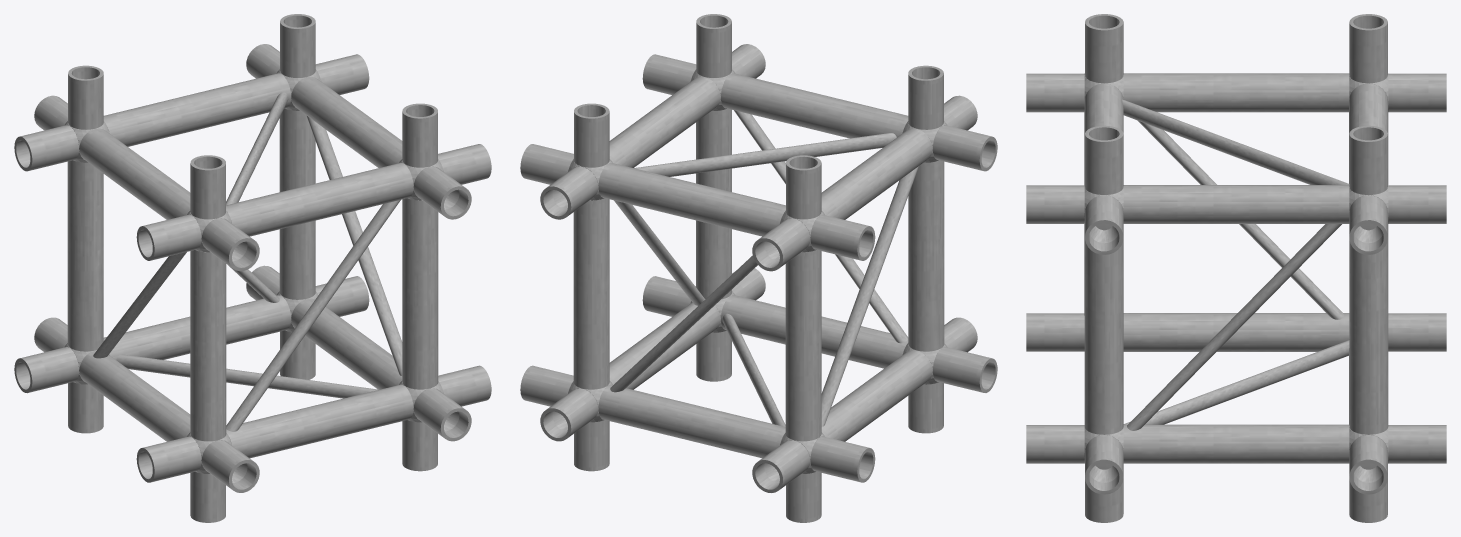
Rendered from Milos_M390L_Multicube_corner-7fd4ad06.glb.
3 views of the same model, side by side, from view 1: azimuth 30°, elevation 25°; view 2: azimuth 150°, elevation 25°; view 3: azimuth 270°, elevation 25° (orthographic). The views are drawn at different scales.
Parts seen in each view (by area): view 1: Geom3D (×41); view 2: Geom3D (×42); view 3: Geom3D (×30).
Part boxes in pixels (x1=…): Geom3D (×41): x1=14, y1=14, x2=491, y2=522; Geom3D (×42): x1=520, y1=14, x2=997, y2=522; Geom3D (×30): x1=1026, y1=14, x2=1446, y2=522.
Size of the model in its own units: 0.539 by 0.539 by 0.539.
1 material, 1 textured.
